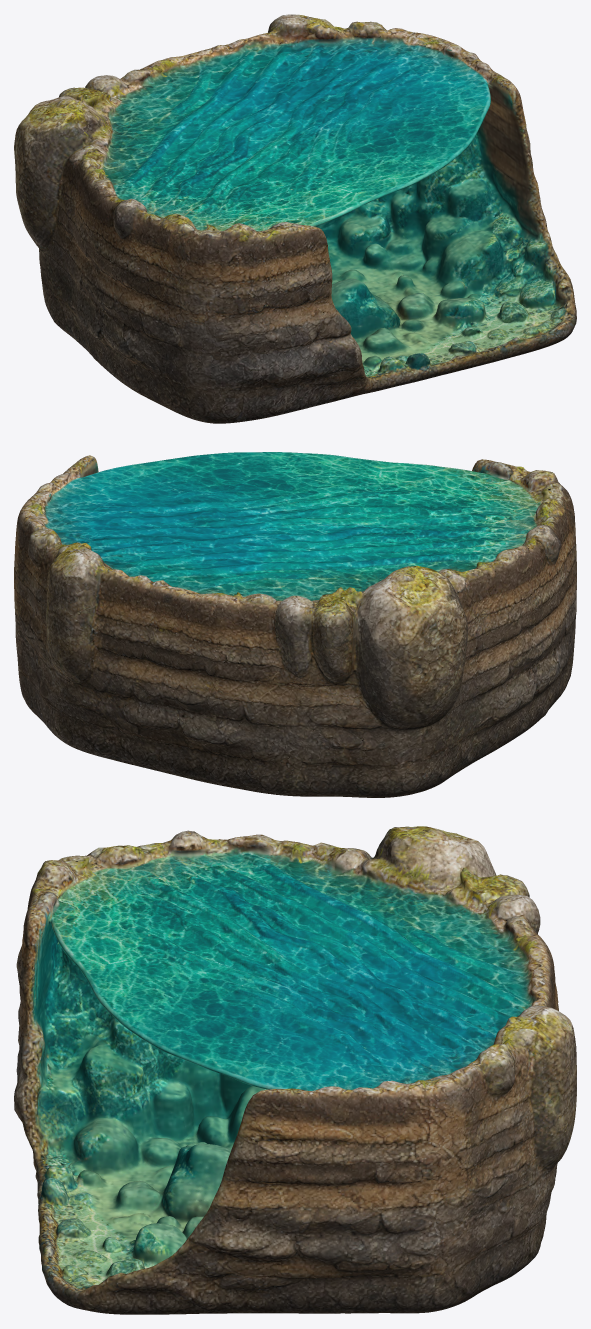
The model's file is pond.fbx.
3 views of the same model, one above another, from view 1: azimuth 30°, elevation 25°; view 2: azimuth 150°, elevation 25°; view 3: azimuth 270°, elevation 25° (orthographic). The views are drawn at different scales.
Parts seen in each view (by area): view 1: tripo_node_cc171f47; view 2: tripo_node_cc171f47; view 3: tripo_node_cc171f47.
Part boxes in pixels (x1,y1,x2,y2): tripo_node_cc171f47: (14, 14, 576, 423); tripo_node_cc171f47: (14, 452, 576, 797); tripo_node_cc171f47: (14, 826, 576, 1314).
Bounding box in the file's own units: 0.9759 × 0.452 × 0.8721.
